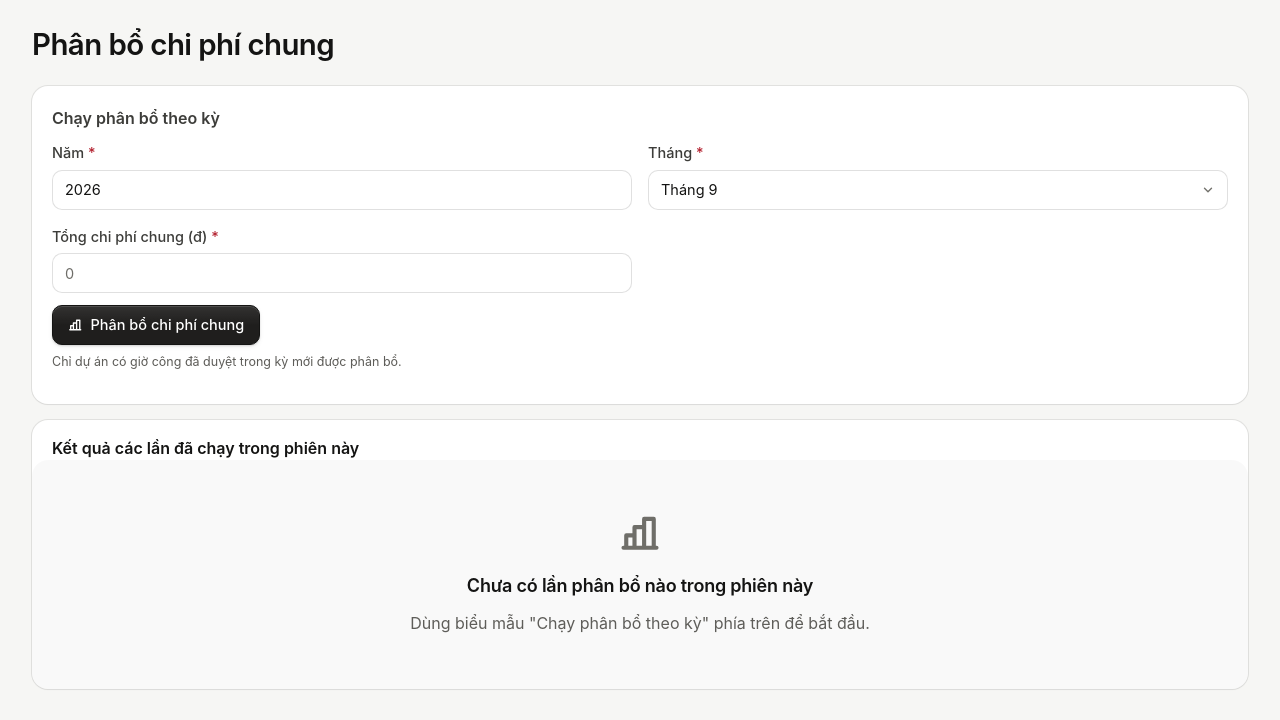
Scenario: OverheadAllocationPage (NCL-08-CN-005 — Phân bổ chi phí chung cho dự án) › hiển thị lỗi khi kỳ chưa có giờ công được duyệt (INVALID_STATE)
Type "1000000" into the number field with test id "overhead-amount-input". click: (342, 273)
box: left=52, top=253, right=632, bottom=293
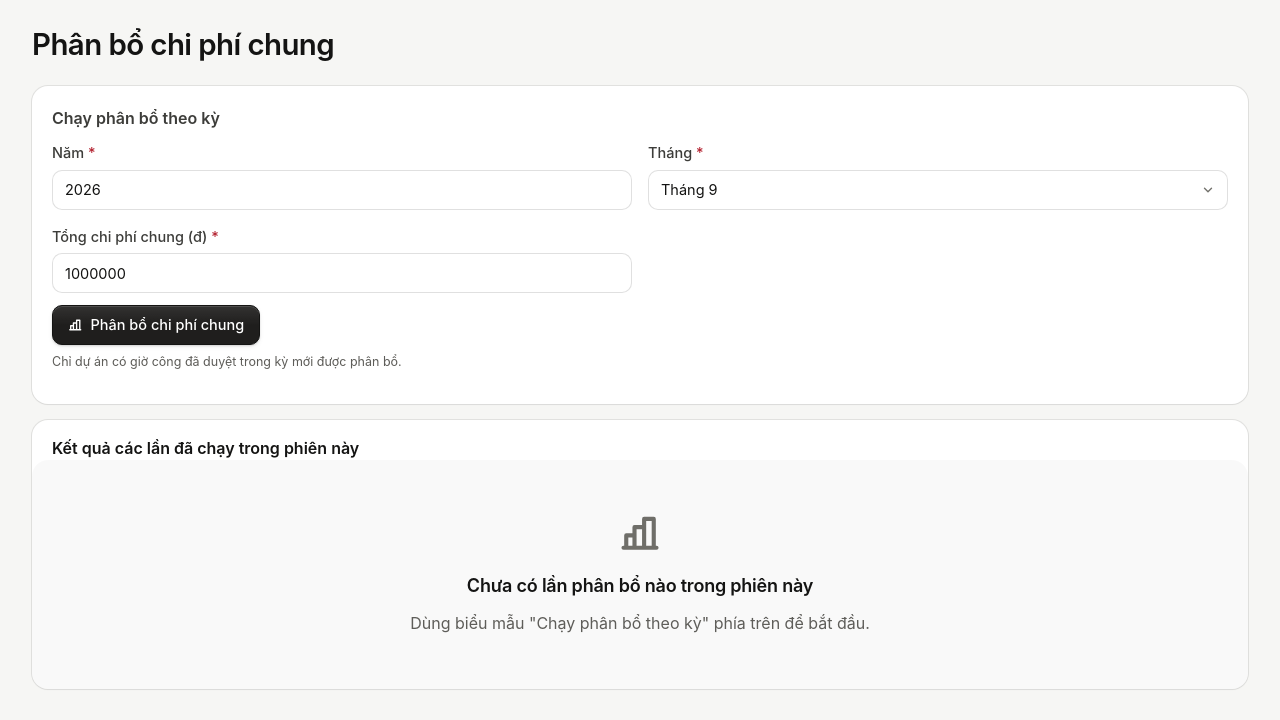
Click the button with test id "btn-run-overhead-allocation". click: (156, 325)
box: left=52, top=305, right=260, bottom=345
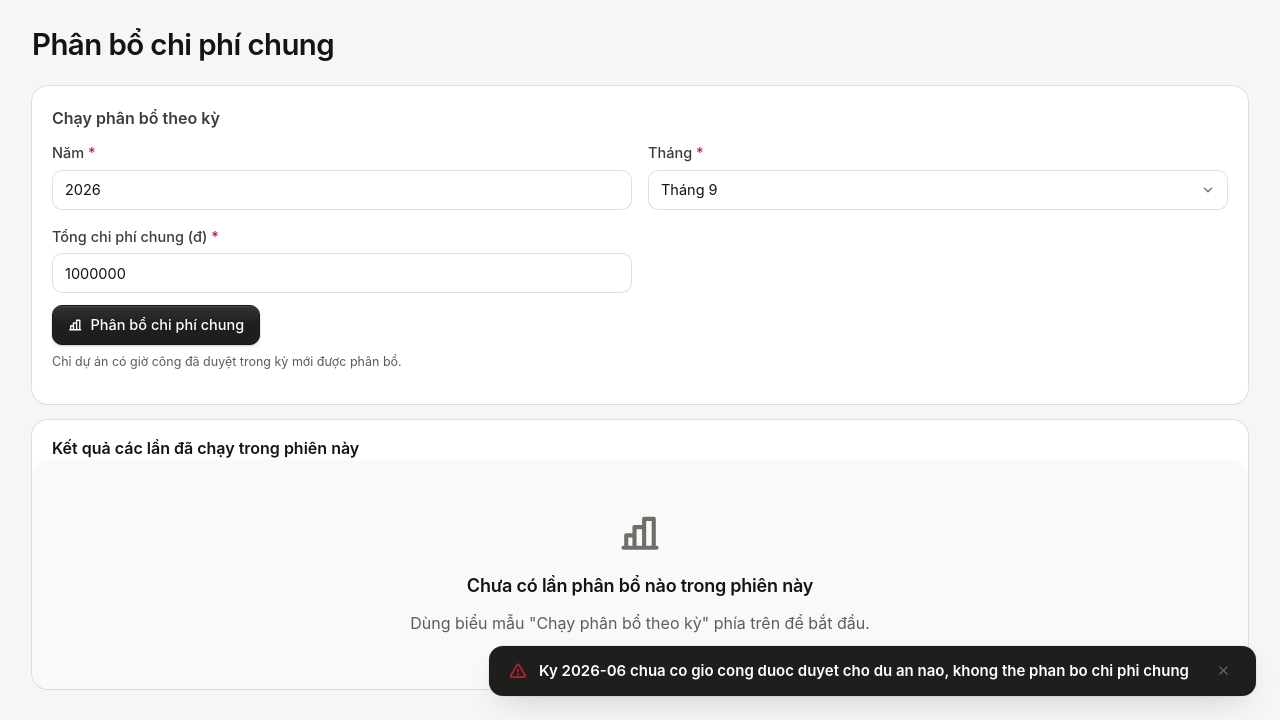
Check: the text "Ky 2026-06 chua co gio cong duoc duyet cho du an nao, khong the phan bo chi phi chung" is shown, box left=539, top=660, right=1189, bottom=680
